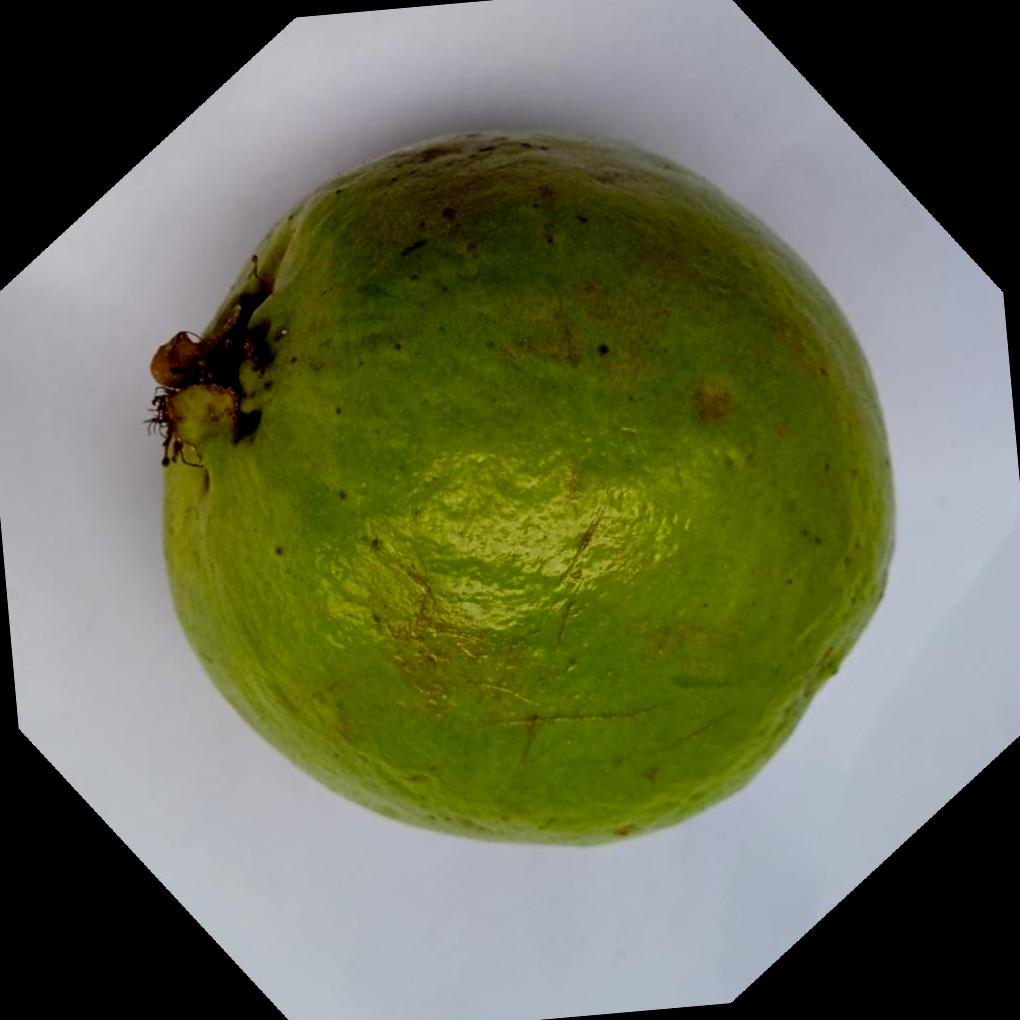FreshGuava: (142, 126, 894, 849)
